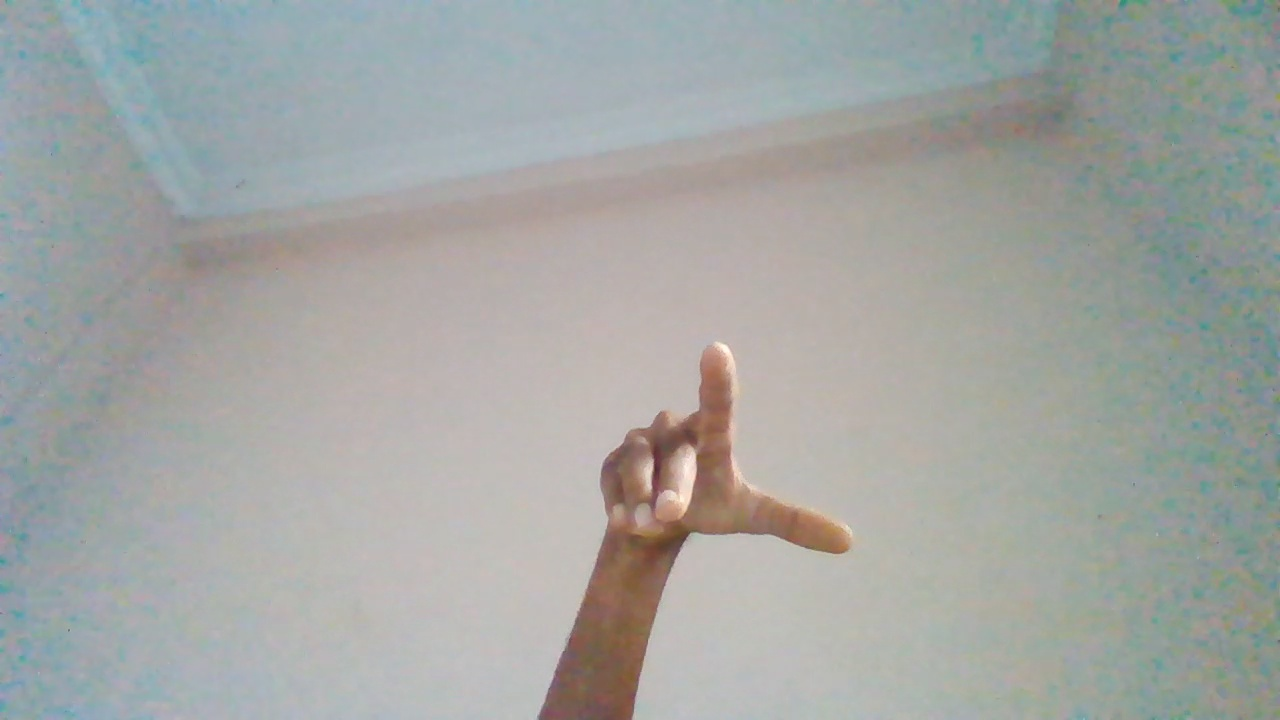ke: (573, 342, 860, 691)
